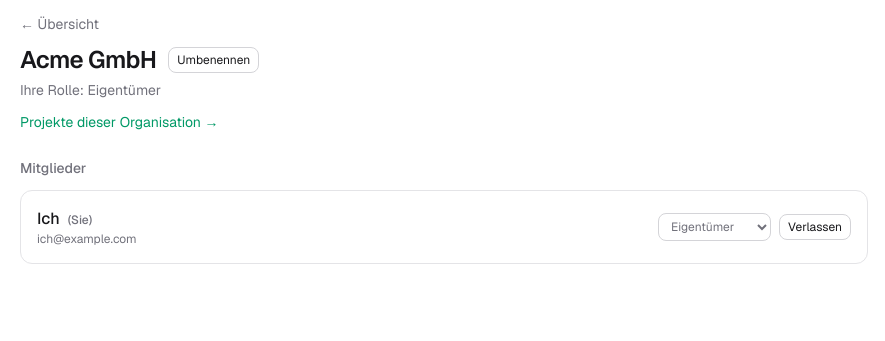
Scenario: Organisationsdetailseite › Umbenennen › lehnt einen zu kurzen Namen ab, ohne den Server zu fragen
This screenshot has width=885, height=341.
Click the button "Umbenennen" at (214, 60), box [168,47,259,73]
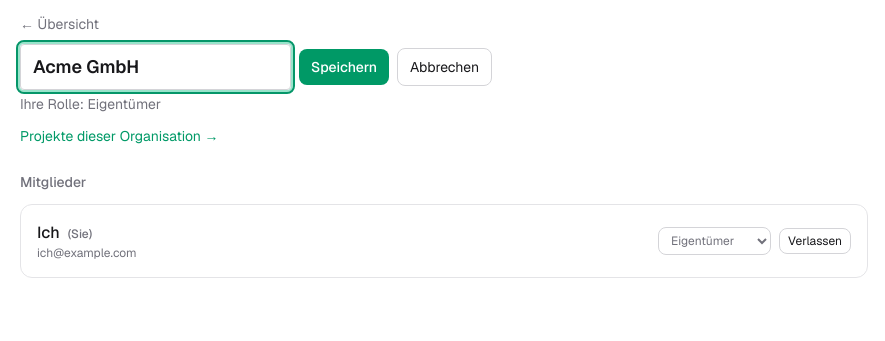
Replace the text in the field named "Name der Organisation" with "A" at (156, 67), box [20,44,291,90]
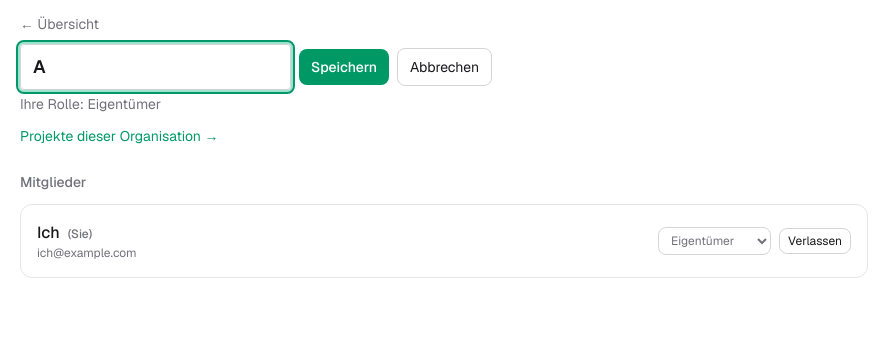
Click the button "Speichern" at (344, 67), box [299,49,389,85]
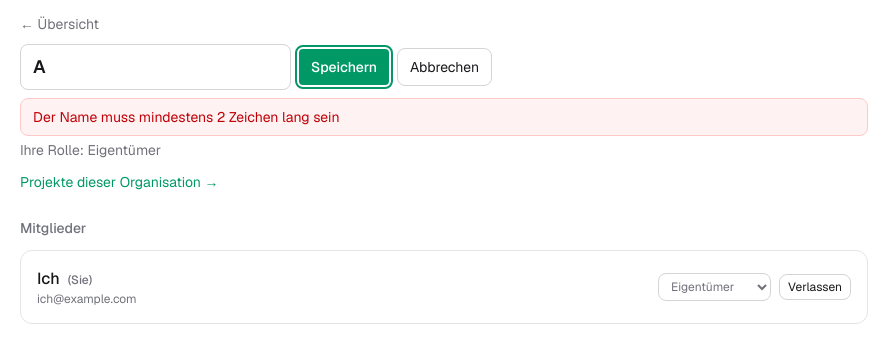
Result: the text "Der Name muss mindestens 2 Zeichen lang sein" is shown at [20,98,868,136]
